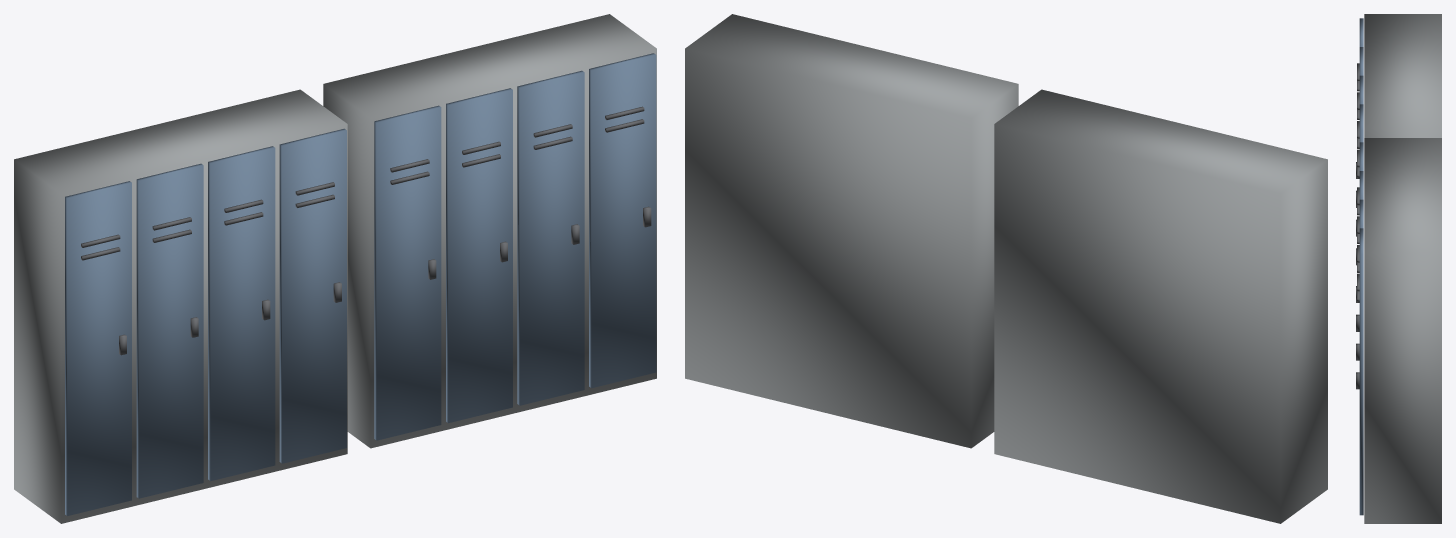
The model's file is evidence_locker__cluster.glb.
3 renders of one model, left to right at view 1: azimuth 30°, elevation 25°; view 2: azimuth 150°, elevation 25°; view 3: azimuth 270°, elevation 25°, orthographic. The views are drawn at different scales.
Visible parts, largest first — view 1: world; view 2: world; view 3: world.
Boxes of the visible parts, x1,y1,x2,y2 form: world: [14, 14, 656, 523]; world: [685, 14, 1327, 523]; world: [1356, 14, 1441, 523].
Size of the model in its own units: 3.49 by 1.85 by 0.53.
